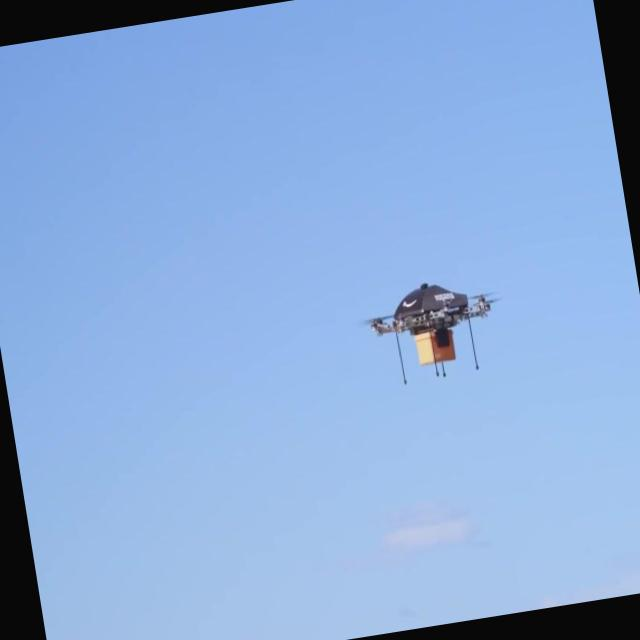drone: (353, 267, 508, 398)
